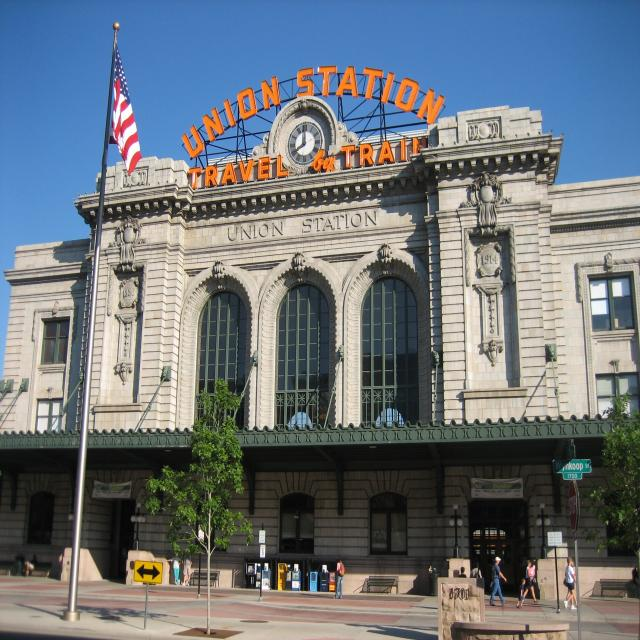body: (489, 556, 508, 606), (563, 556, 577, 611), (566, 560, 581, 608), (523, 559, 539, 603), (165, 552, 182, 585), (332, 559, 345, 599), (182, 551, 192, 587), (516, 578, 526, 609), (470, 561, 482, 578), (632, 563, 640, 585), (529, 564, 536, 582), (458, 566, 467, 578)
